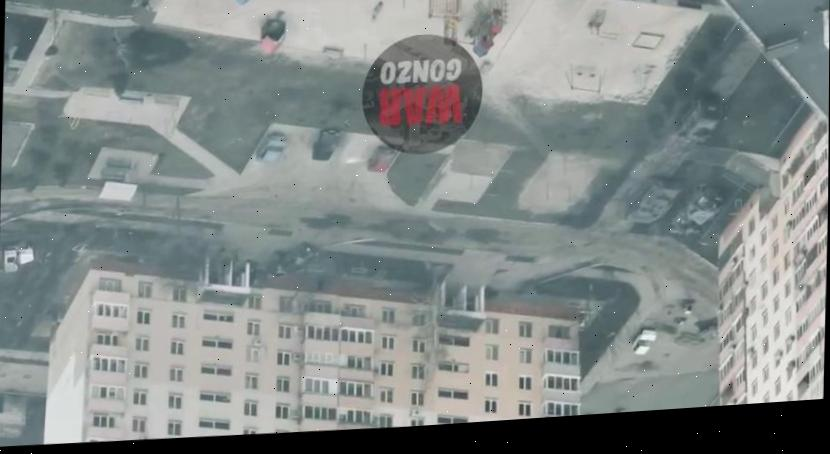armored_car: (672, 91, 721, 145)
car: (265, 240, 319, 278), (254, 132, 285, 163), (311, 128, 339, 162), (366, 145, 394, 172), (631, 327, 655, 354)
tank: (673, 169, 721, 238), (625, 174, 681, 224)
